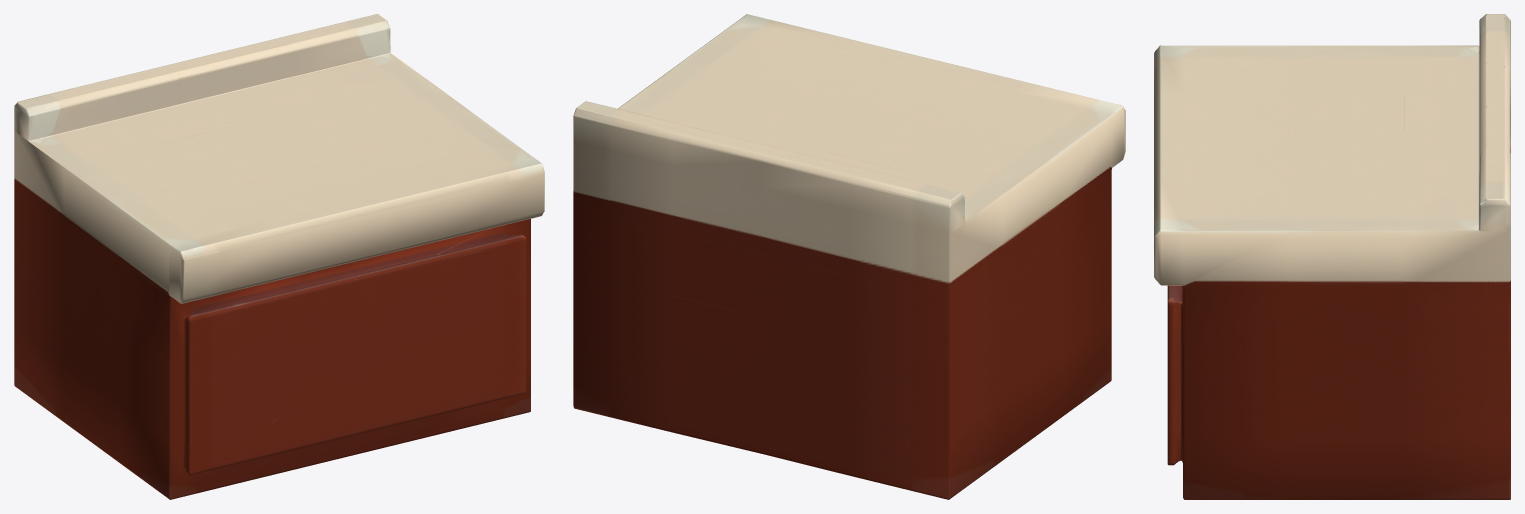
File: Meshy_AI_Beige_lidded_storage__0528223553_texture.fbx
3 views of the same model, side by side, from view 1: azimuth 30°, elevation 25°; view 2: azimuth 150°, elevation 25°; view 3: azimuth 270°, elevation 25° (orthographic). The views are drawn at different scales.
Parts seen in each view (by area): view 1: Mesh_0; view 2: Mesh_0; view 3: Mesh_0.
Boxes of the visible parts, <box> form: Mesh_0: <box>14,14,544,499</box>; Mesh_0: <box>573,14,1125,499</box>; Mesh_0: <box>1154,14,1510,499</box>.
Size of the model in its own units: 191 by 147 by 155.
Materials: 1 (1 with a texture image).
